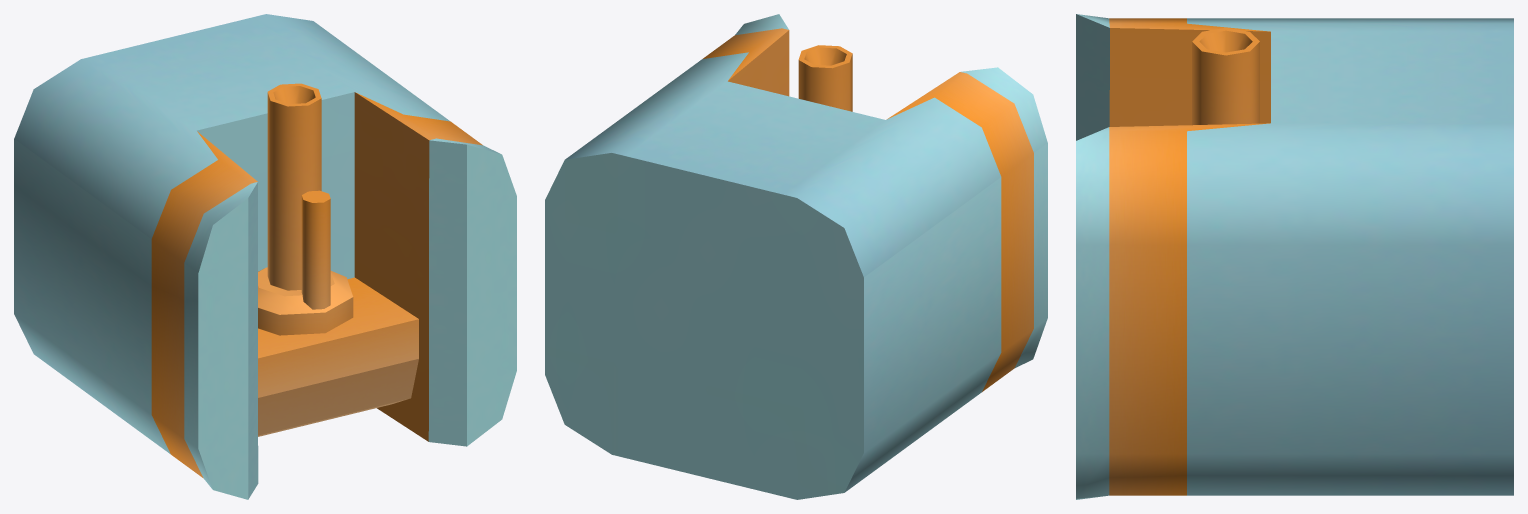
The model's file is Simple gun (3).fbx.
3 views of the same model, side by side, from view 1: azimuth 30°, elevation 25°; view 2: azimuth 150°, elevation 25°; view 3: azimuth 270°, elevation 25° (orthographic). The views are drawn at different scales.
Parts seen in each view (by area): view 1: Simple gun.001, Simple gun.004; view 2: Simple gun.001, Simple gun.004; view 3: Simple gun.001, Simple gun.004.
Boxes of the visible parts, x1=… form: Simple gun.001: x1=14, y1=14, x2=516, y2=499; Simple gun.004: x1=267, y1=83, x2=330, y2=309; Simple gun.001: x1=545, y1=14, x2=1047, y2=499; Simple gun.004: x1=798, y1=45, x2=852, y2=111; Simple gun.001: x1=1076, y1=14, x2=1513, y2=499; Simple gun.004: x1=1192, y1=27, x2=1259, y2=125.
Bounding box in the file's own units: 100 × 99.55 × 100.
